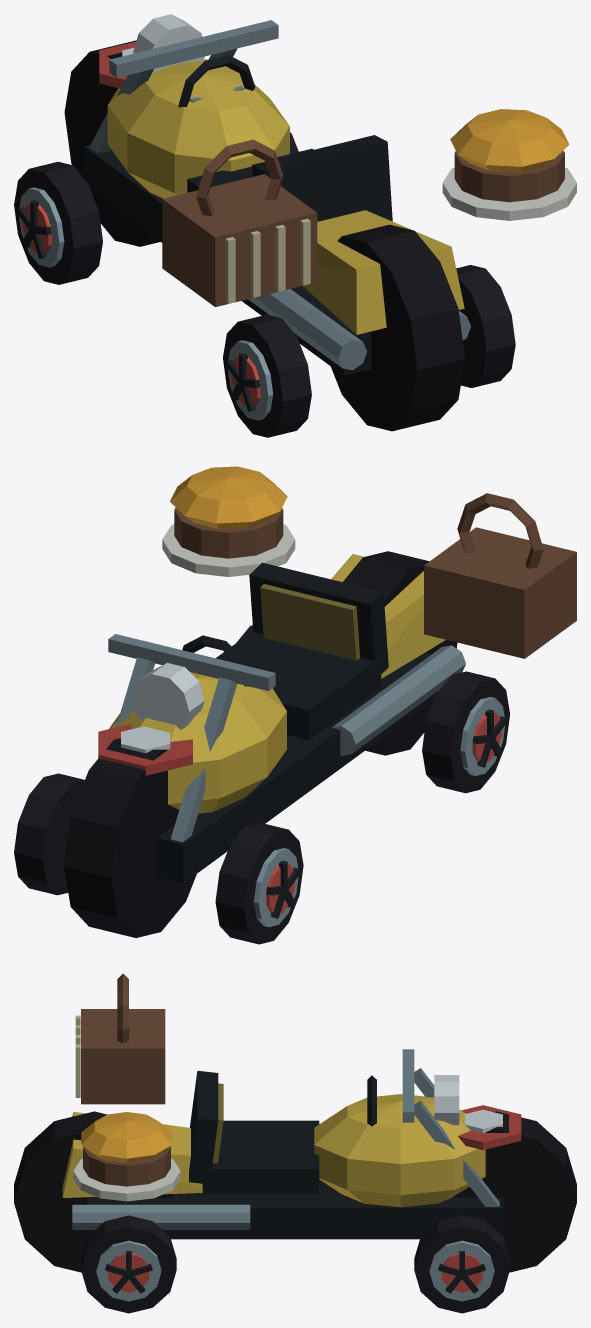
The model's file is kart.glb.
The picture shows the model from 3 angles, top to bottom: view 1: azimuth 30°, elevation 25°; view 2: azimuth 150°, elevation 25°; view 3: azimuth 270°, elevation 25°; orthographic projection. The views are drawn at different scales.
Visible parts, largest first — view 1: identity-motorbike-motorbike-tank-and-fork, identity-motorbike-motif-basket, identity-motorbike-motif-food, identity-motorbike-driver-cockpit, wheel-front-left, wheel-rear-left, wheel-rear-right, identity-motorbike-motif-badge; view 2: identity-motorbike-motorbike-tank-and-fork, identity-motorbike-driver-cockpit, identity-motorbike-motif-basket, identity-motorbike-motif-food, wheel-front-left, wheel-rear-left, wheel-front-right, identity-motorbike-motif-badge; view 3: identity-motorbike-motorbike-tank-and-fork, identity-motorbike-driver-cockpit, identity-motorbike-motif-basket, identity-motorbike-motif-food, wheel-front-right, wheel-rear-right, identity-motorbike-motif-badge.
Part boxes in pixels (bbox=[...]): identity-motorbike-motorbike-tank-and-fork: bbox=[64, 14, 470, 431]; identity-motorbike-motif-basket: bbox=[162, 139, 317, 306]; identity-motorbike-motif-food: bbox=[442, 109, 576, 220]; identity-motorbike-driver-cockpit: bbox=[178, 55, 392, 221]; wheel-front-left: bbox=[14, 161, 102, 284]; wheel-rear-left: bbox=[223, 314, 311, 437]; wheel-rear-right: bbox=[456, 265, 515, 387]; identity-motorbike-motif-badge: bbox=[99, 41, 136, 88]; identity-motorbike-motorbike-tank-and-fork: bbox=[64, 551, 465, 937]; identity-motorbike-driver-cockpit: bbox=[182, 562, 388, 740]; identity-motorbike-motif-basket: bbox=[424, 493, 576, 658]; identity-motorbike-motif-food: bbox=[162, 466, 295, 576]; wheel-front-left: bbox=[215, 822, 303, 944]; wheel-rear-left: bbox=[422, 671, 509, 793]; wheel-front-right: bbox=[14, 773, 84, 895]; identity-motorbike-motif-badge: bbox=[98, 724, 192, 775]; identity-motorbike-motorbike-tank-and-fork: bbox=[14, 1049, 576, 1272]; identity-motorbike-driver-cockpit: bbox=[189, 1070, 376, 1193]; identity-motorbike-motif-basket: bbox=[75, 973, 165, 1104]; identity-motorbike-motif-food: bbox=[73, 1112, 180, 1201]; wheel-front-right: bbox=[414, 1215, 509, 1313]; wheel-rear-right: bbox=[81, 1215, 176, 1313]; identity-motorbike-motif-badge: bbox=[458, 1105, 521, 1149].
Size of the model in its own units: 1.83 by 1.37 by 2.94.
